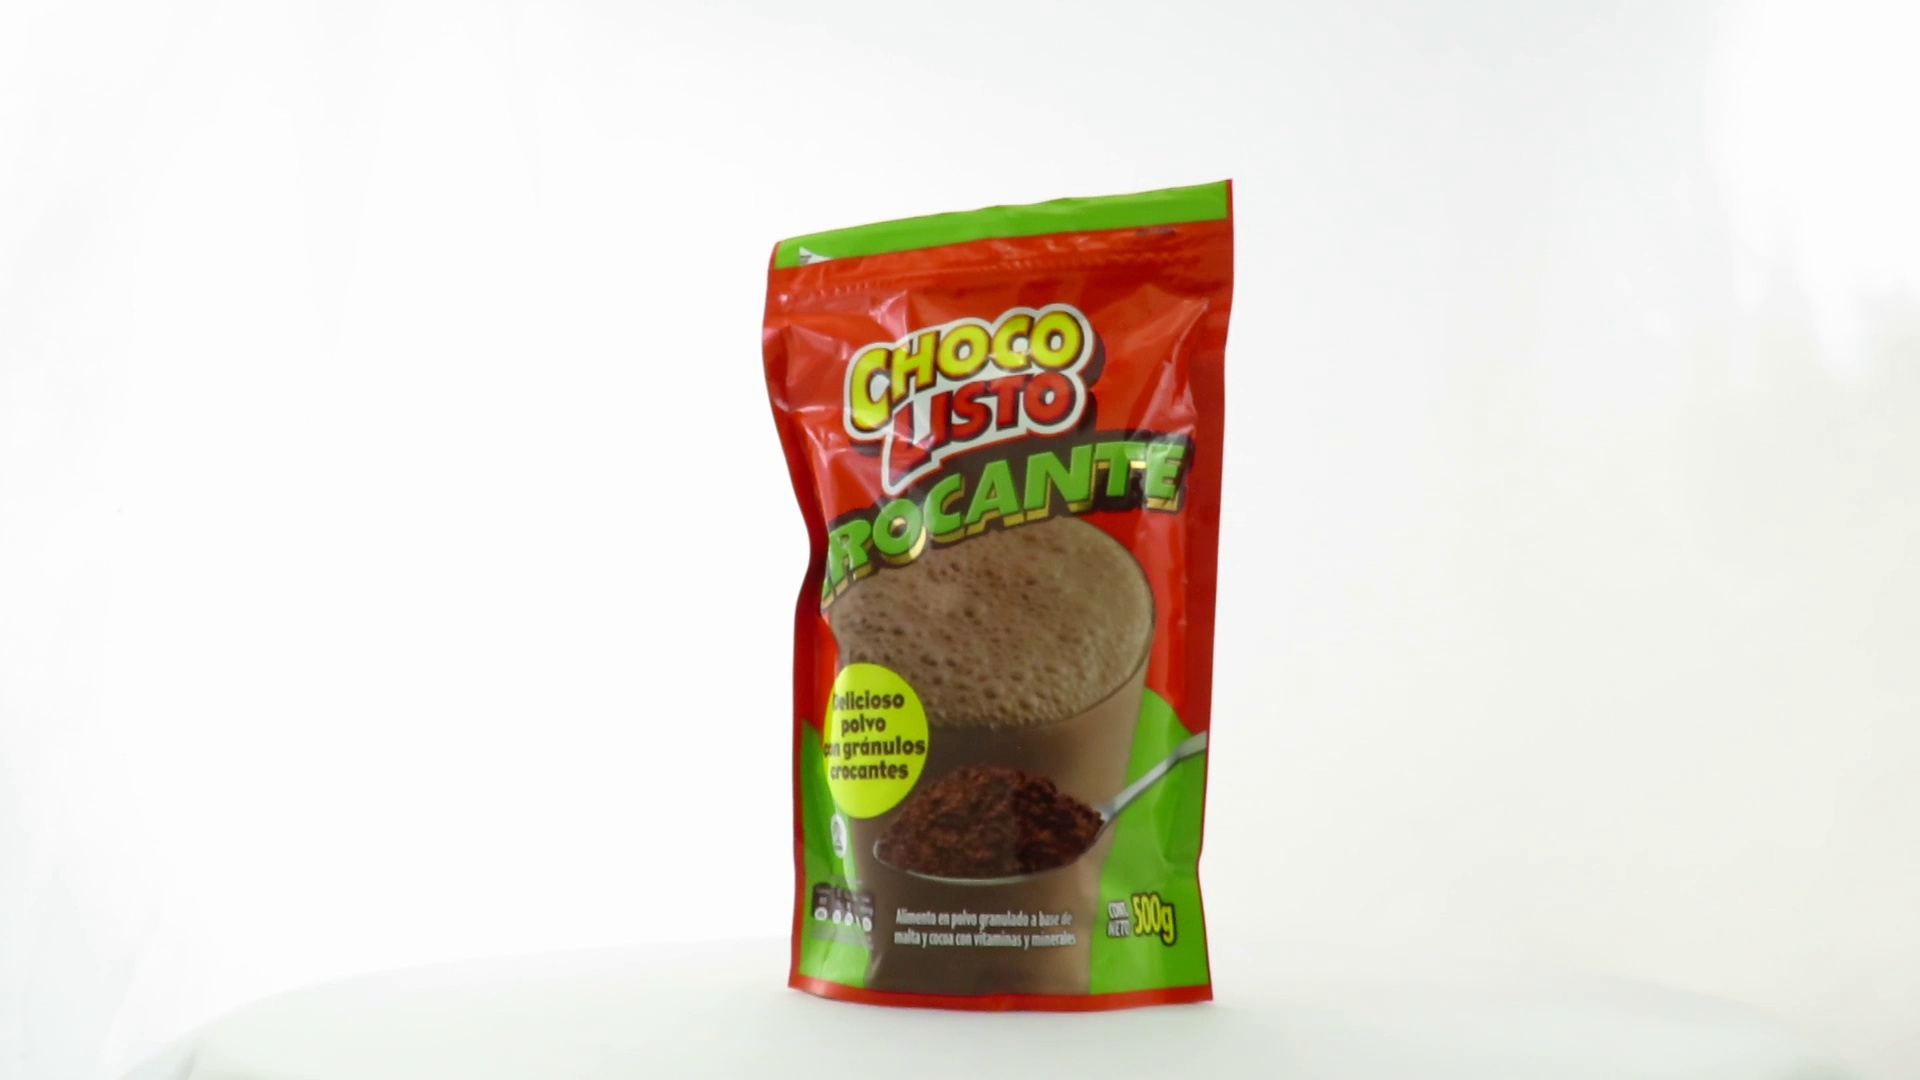COL0170102DYP50000: (756, 174, 1240, 1021)
